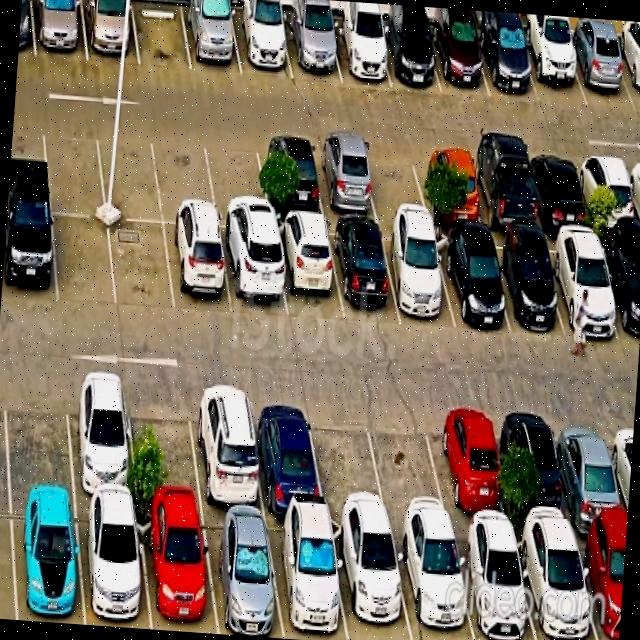empty: (365, 399, 451, 525), (307, 396, 388, 521), (126, 379, 202, 508), (3, 372, 73, 496), (95, 124, 162, 222), (203, 132, 270, 230), (153, 129, 217, 225), (109, 219, 174, 313), (42, 119, 105, 215), (52, 214, 116, 306), (361, 141, 428, 219), (132, 0, 191, 70)
occupied: (200, 510, 284, 638), (137, 506, 217, 634), (266, 515, 347, 640), (430, 401, 509, 529), (330, 518, 412, 640), (76, 500, 151, 629), (188, 385, 264, 512), (391, 525, 474, 640), (248, 389, 324, 514), (552, 408, 627, 533), (453, 526, 535, 640), (10, 497, 83, 624), (65, 374, 137, 502), (514, 529, 597, 640), (501, 404, 573, 531), (542, 232, 621, 337), (433, 231, 510, 332), (380, 225, 455, 328), (485, 233, 563, 331), (327, 221, 400, 321), (273, 219, 343, 321), (164, 224, 232, 314), (219, 229, 287, 319), (467, 148, 539, 230), (574, 532, 626, 640), (1, 206, 57, 304), (563, 32, 634, 109), (415, 145, 483, 225), (256, 136, 324, 216), (311, 139, 378, 217), (518, 30, 587, 105), (525, 150, 590, 228), (575, 152, 639, 231), (474, 23, 538, 101), (596, 234, 640, 344), (427, 21, 489, 96), (229, 7, 292, 78), (377, 22, 440, 92), (181, 2, 241, 75), (328, 18, 390, 87), (282, 15, 340, 81), (81, 0, 139, 64), (31, 0, 87, 60), (612, 37, 640, 108)
